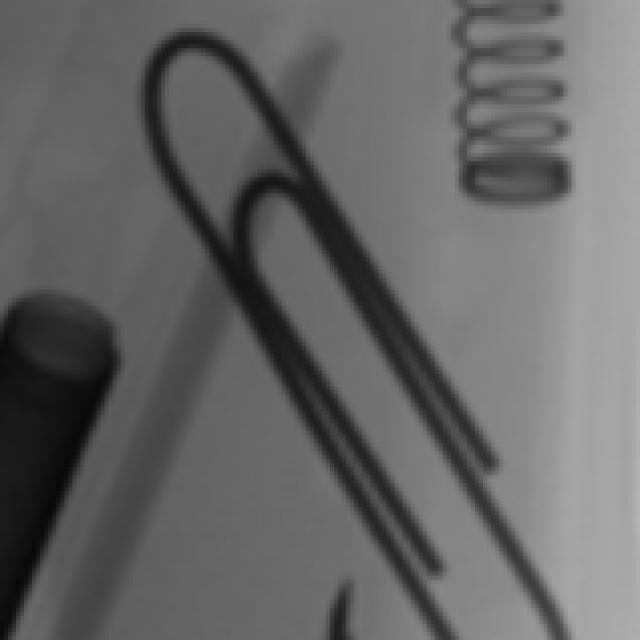GUN: (1, 296, 103, 636)
